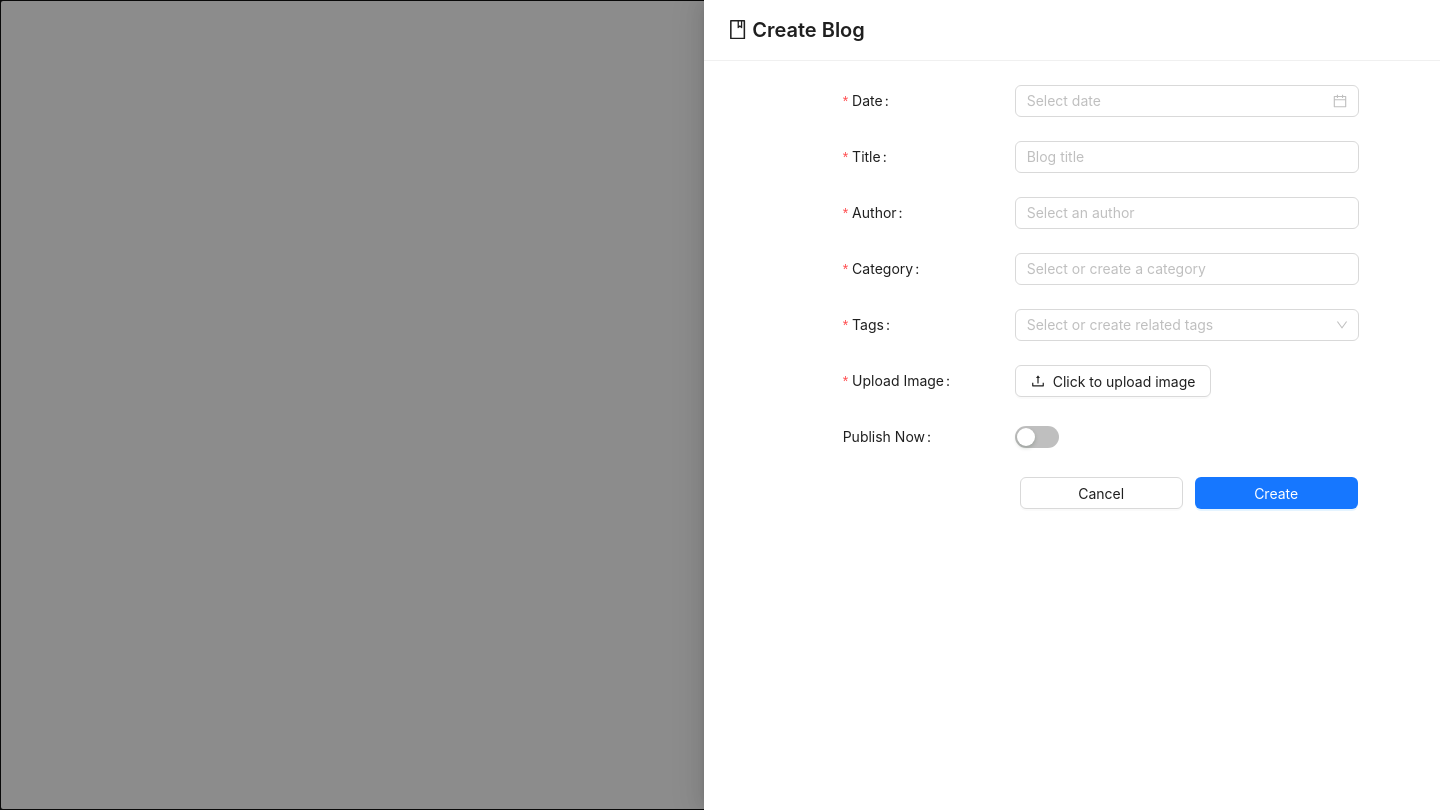
Test case: CreateBlogDrawer › should validate create blog form input
Click the button "Create". click: [1276, 493]
box: x1=1195 y1=477 x2=1358 y2=509
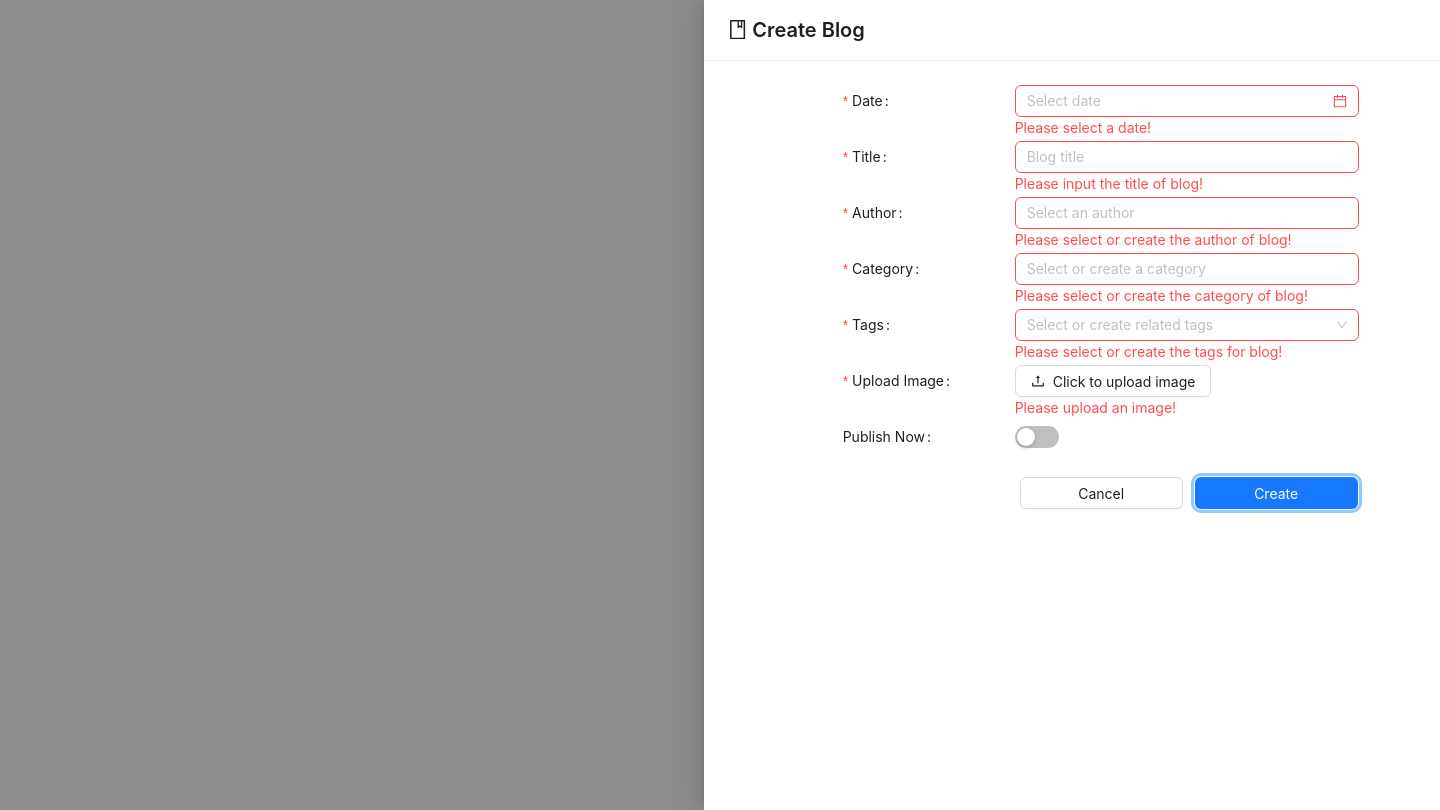
Check: the text "Please select a date!" is shown, box x1=1015 y1=119 x2=1151 y2=136
